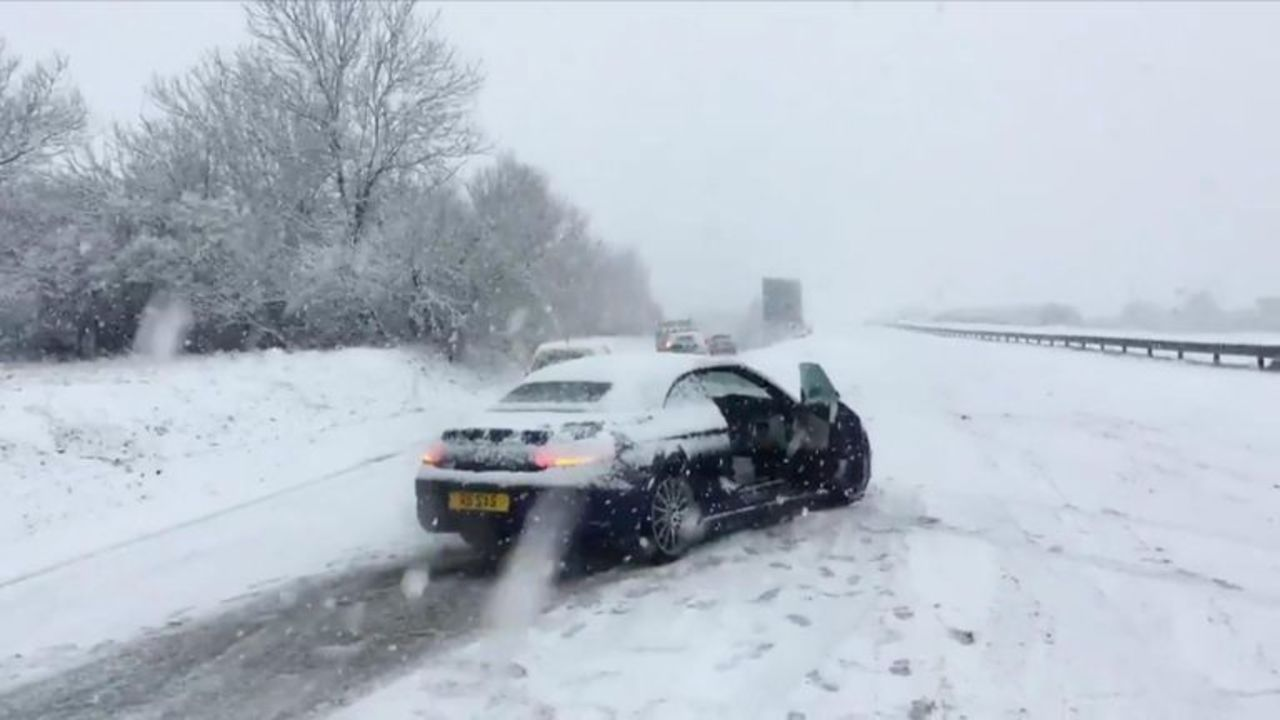car: (418, 345, 869, 559), (665, 336, 712, 360)
